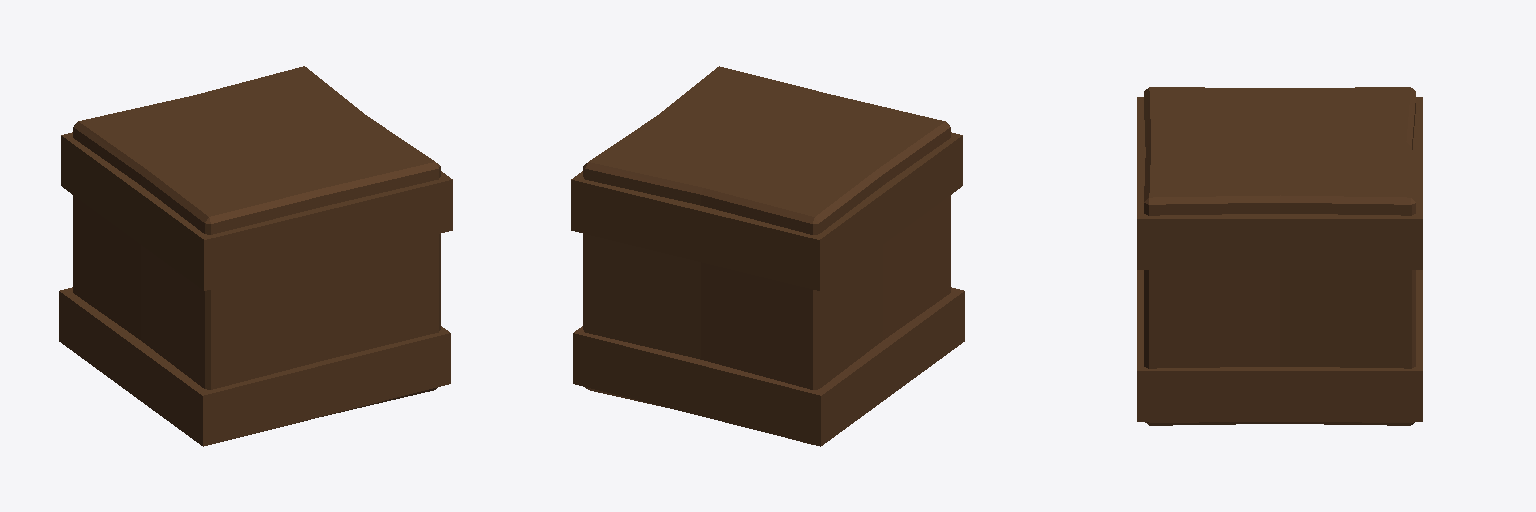
The picture shows the model from 3 angles: view 1: azimuth 30°, elevation 25°; view 2: azimuth 150°, elevation 25°; view 3: azimuth 270°, elevation 25°; orthographic projection.
Parts seen in each view (by area): view 1: Mod_SmallCrate02_Mesh.003; view 2: Mod_SmallCrate02_Mesh.003; view 3: Mod_SmallCrate02_Mesh.003.
Boxes of the visible parts, x1,y1,x2,y2 form: Mod_SmallCrate02_Mesh.003: [59, 66, 452, 446]; Mod_SmallCrate02_Mesh.003: [571, 66, 964, 446]; Mod_SmallCrate02_Mesh.003: [1137, 87, 1422, 425].
Bounding box in the file's own units: 0.7257 × 0.6323 × 0.72.
1 materials, 1 textured.